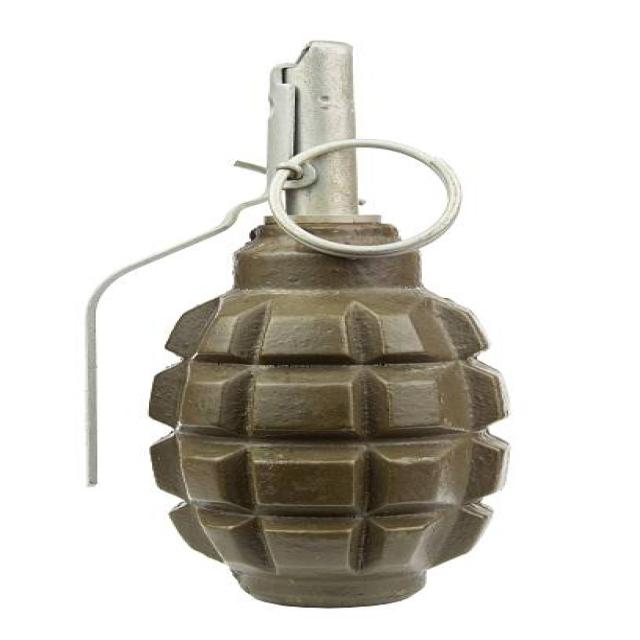grenade: (78, 33, 519, 611)
